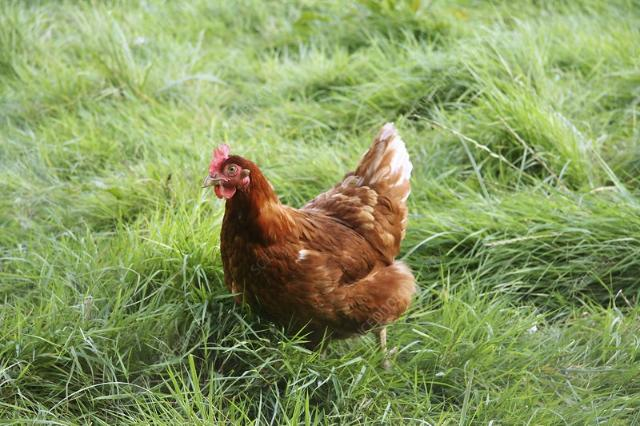Chicken: (203, 121, 417, 352)
